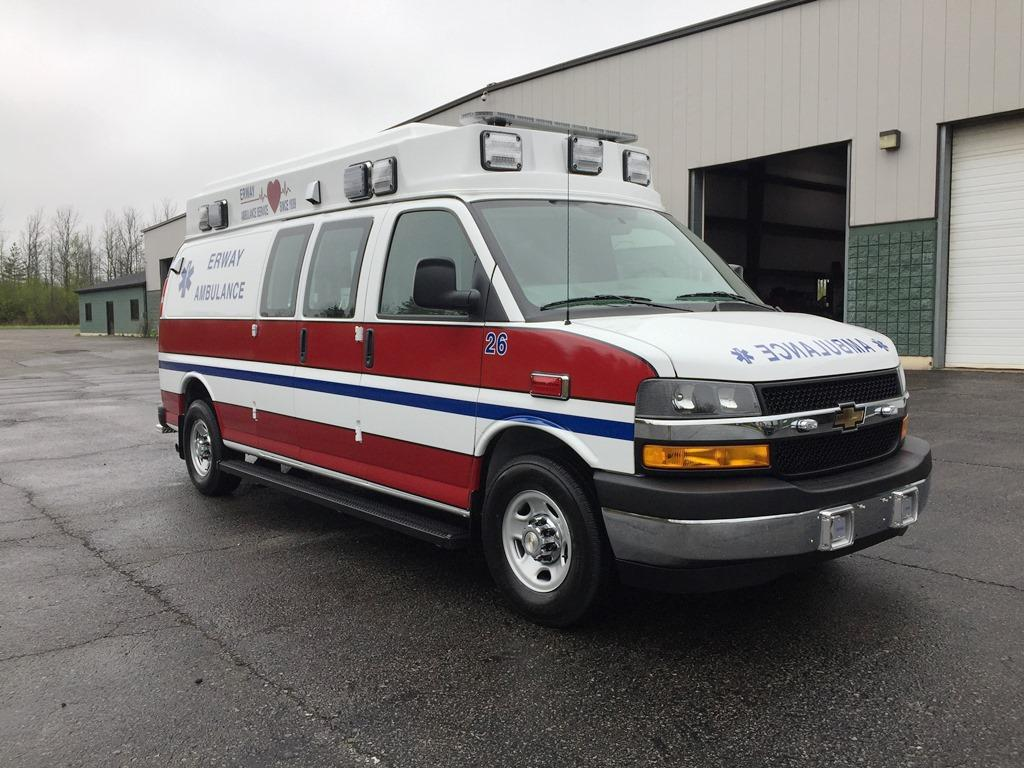ambulance_off: (153, 113, 936, 610)
